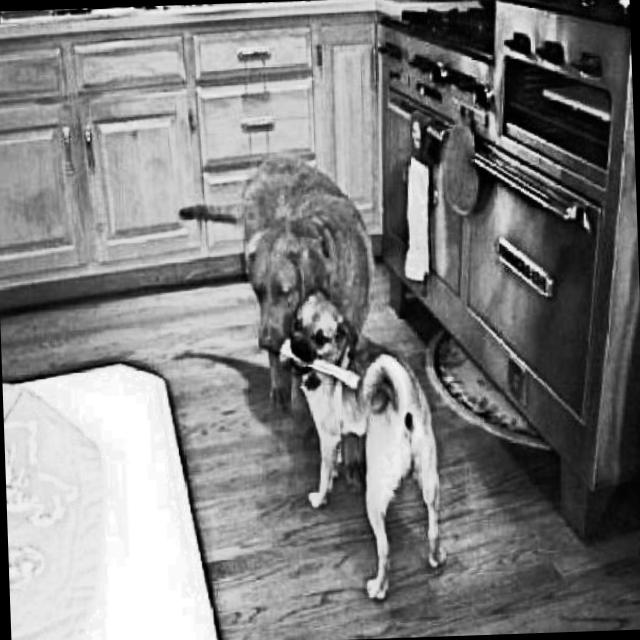Dog: (178, 140, 378, 417), (289, 290, 452, 616)
